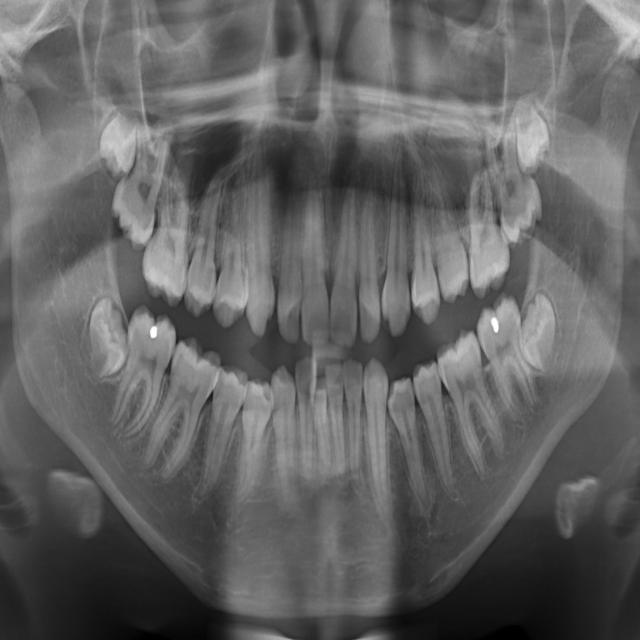AmalgamRestoration: (148, 324, 160, 348), (490, 314, 502, 336)
